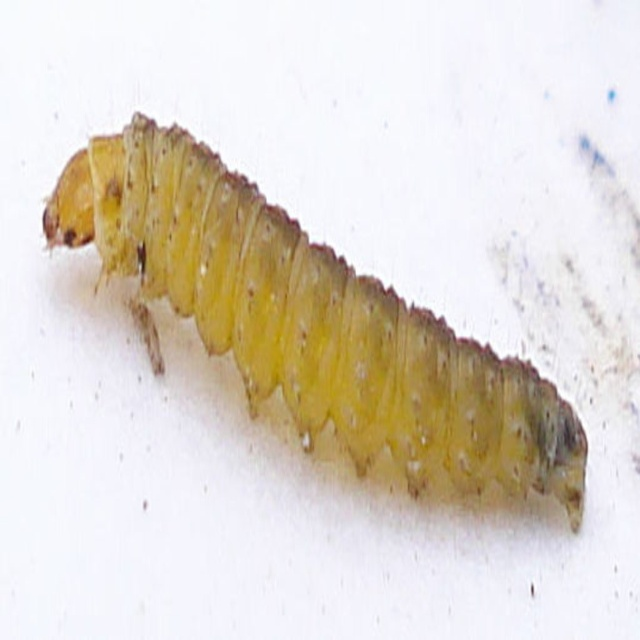Caterpillar: (40, 104, 594, 533)
